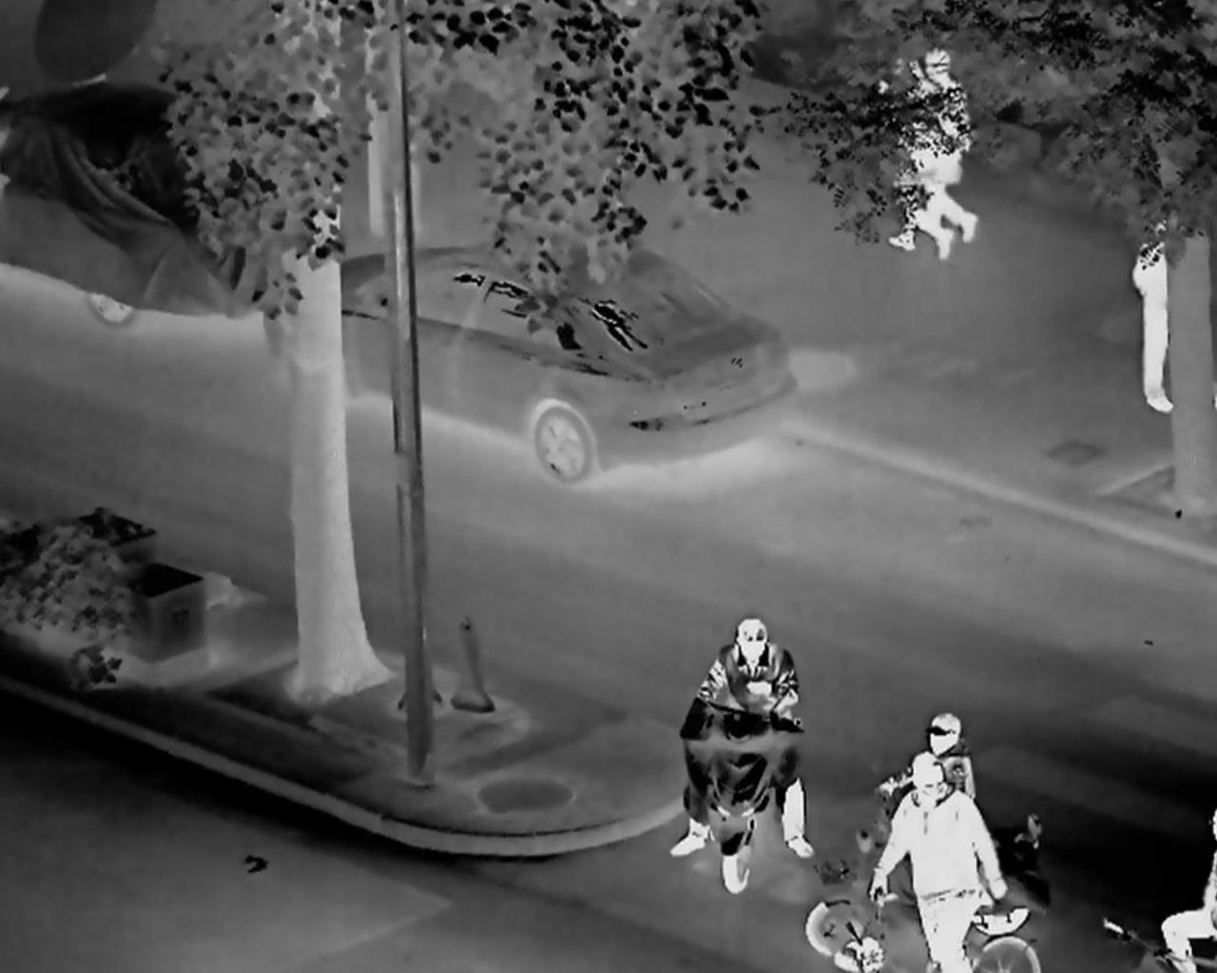person: (662, 585, 823, 867), (859, 747, 1016, 973), (1105, 193, 1199, 447), (887, 33, 982, 260), (868, 700, 976, 824)
